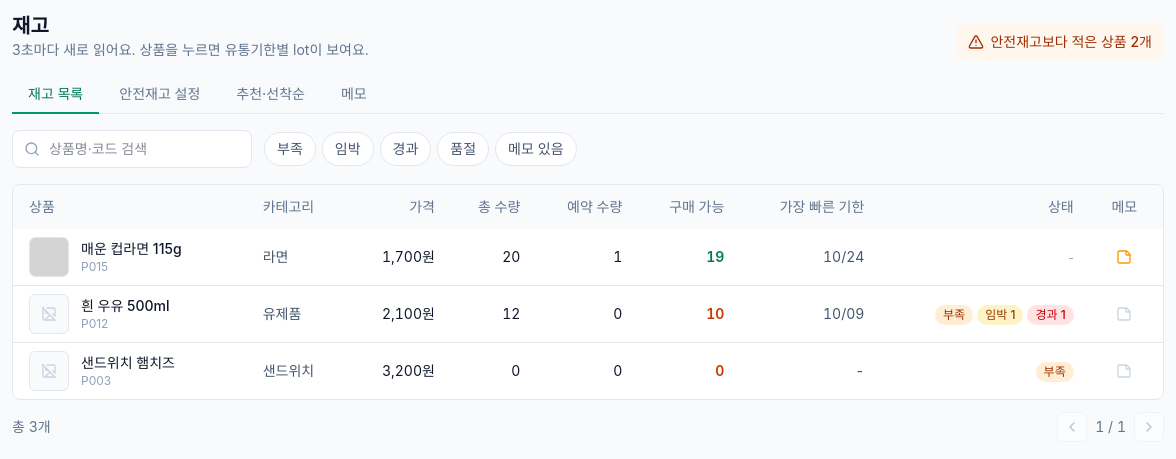
lot 상세 패널 (S-11) › lot 조회 오류는 서버 message 로 보여 준다
Click the text "흰 우유 500ml" at (125, 306), box [81, 296, 170, 316]
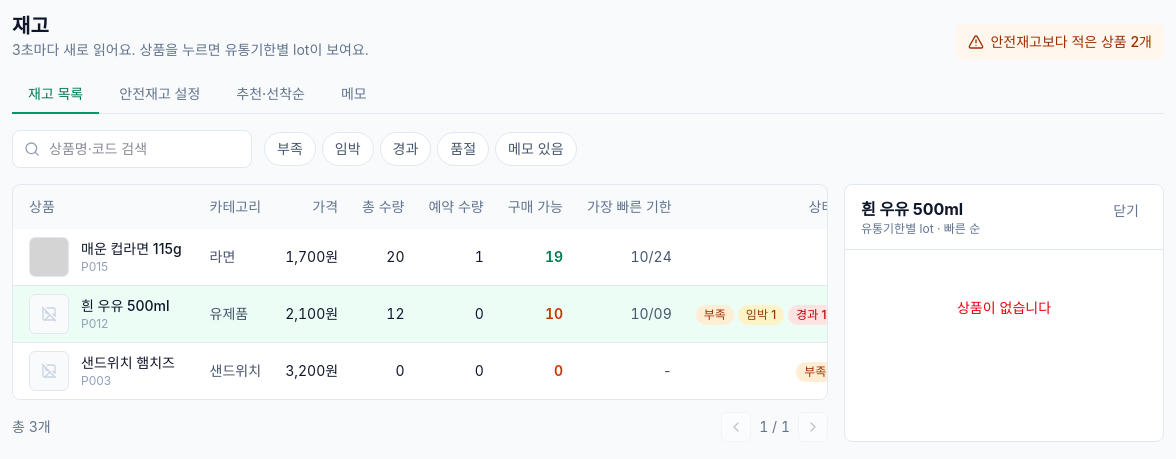
Now the text "상품이 없습니다" is shown, box [957, 299, 1051, 316]
